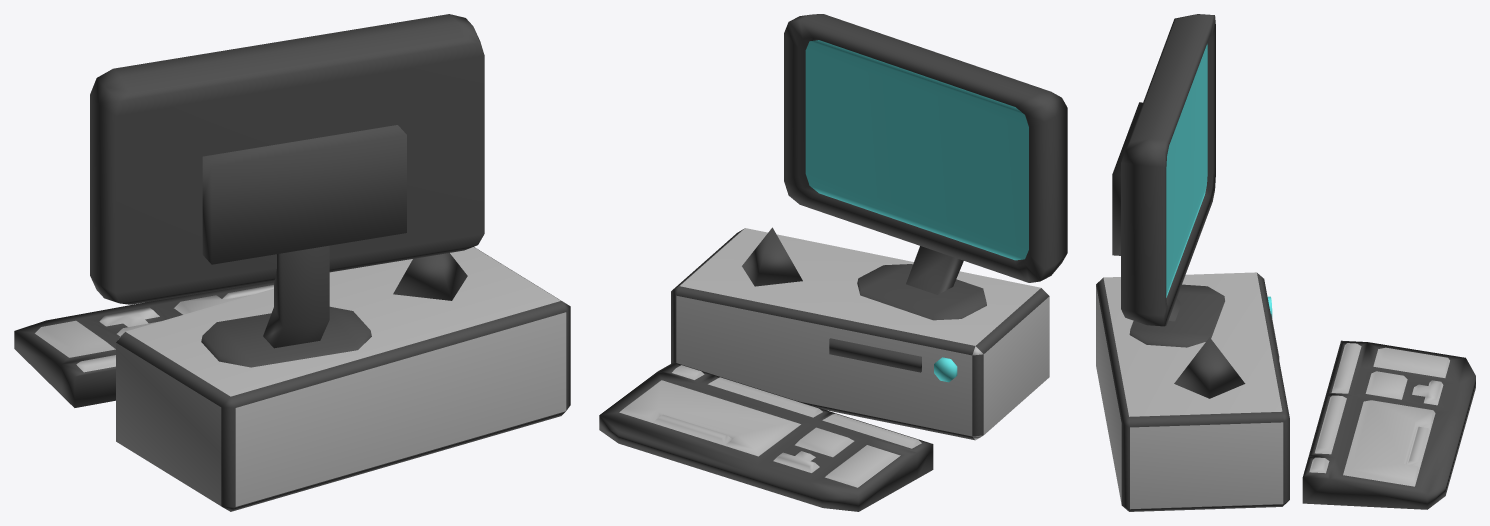
3 views of the same model, side by side, from view 1: azimuth 30°, elevation 25°; view 2: azimuth 150°, elevation 25°; view 3: azimuth 270°, elevation 25° (orthographic). The views are drawn at different scales.
Visible parts, largest first — view 1: mesh_PC_01.001, mesh_PC_01; view 2: mesh_PC_01, mesh_PC_01.001; view 3: mesh_PC_01, mesh_PC_01.001.
Part boxes in pixels (left/top/right/bottom): mesh_PC_01.001: left=90, top=14, right=484, bottom=367; mesh_PC_01: left=14, top=247, right=570, bottom=511; mesh_PC_01: left=599, top=227, right=1049, bottom=511; mesh_PC_01.001: left=784, top=14, right=1067, bottom=320; mesh_PC_01: left=1096, top=272, right=1475, bottom=511; mesh_PC_01.001: left=1112, top=14, right=1224, bottom=347.
Bounding box in the file's own units: 18.11 × 16.34 × 16.74.
